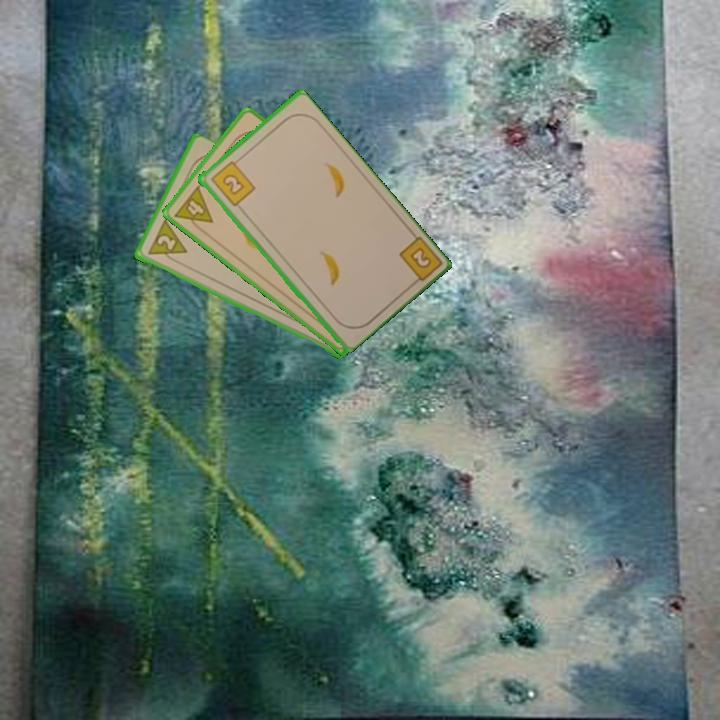2b: (395, 232, 443, 290), (207, 155, 258, 209)
2p: (143, 218, 190, 266)
4p: (171, 182, 216, 236)
